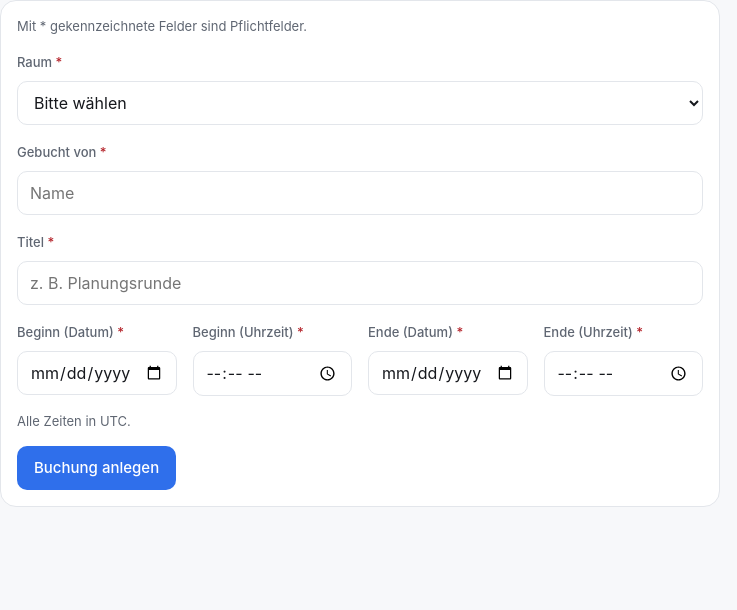
Test: BookingForm › shows the occupied period on a 409 conflict and keeps the entered values
Select "Alpha · 4 Plätze" in the dropdown labelled "Raum *" at (360, 103), box [17,81,703,125]
Type "Anna" into the field labelled "Gebucht von *" at (360, 193), box [17,171,703,215]
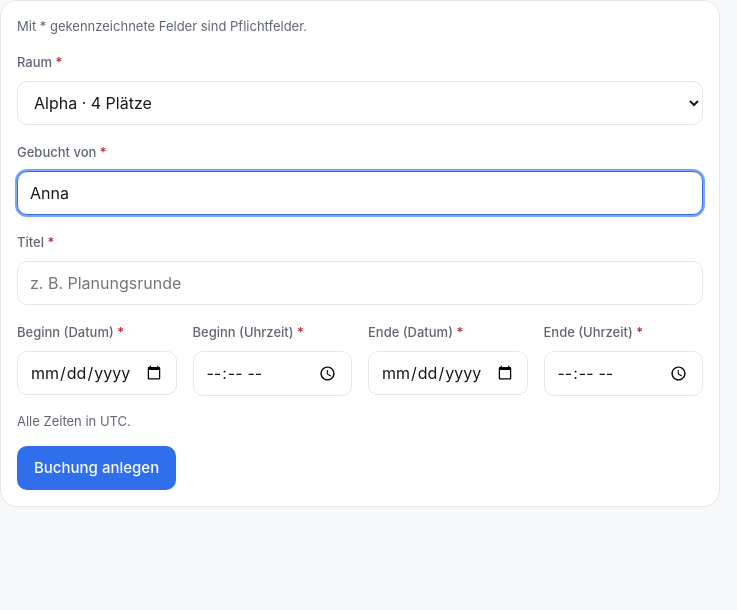
Type "Planung" into the field labelled "Titel *" at (360, 283), box [17,261,703,305]
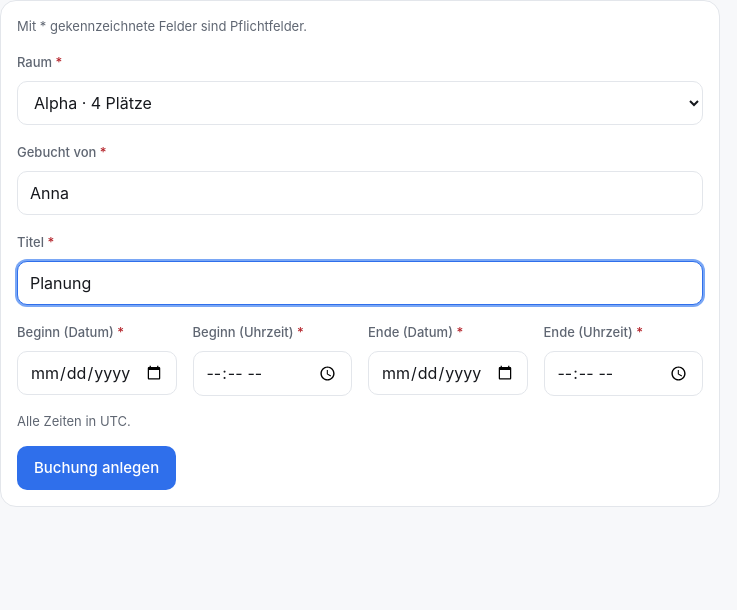
Type "2030-01-02" into the date field labelled "Beginn (Datum) *" at (97, 373), box [17,351,176,395]
Type "09:00" into the time field labelled "Beginn (Uhrzeit) *" at (272, 373), box [192,351,352,396]
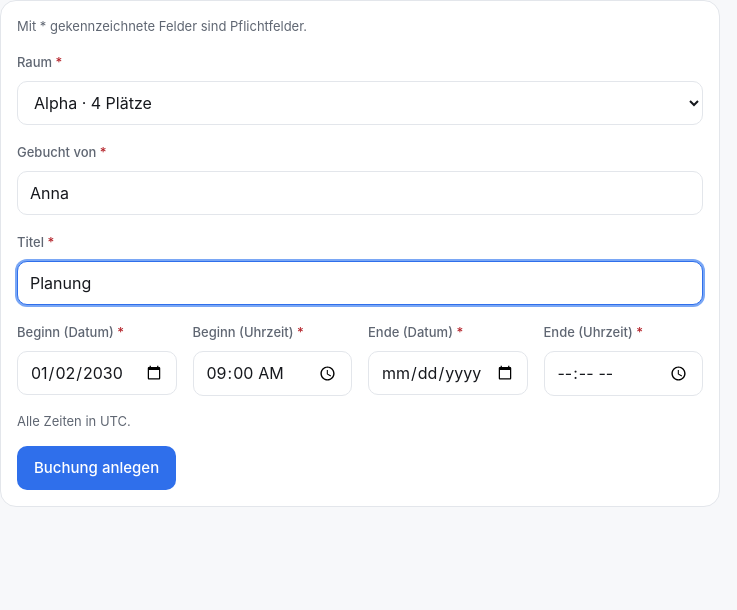
Type "2030-01-02" into the date field labelled "Ende (Datum) *" at (448, 373), box [368,351,528,395]
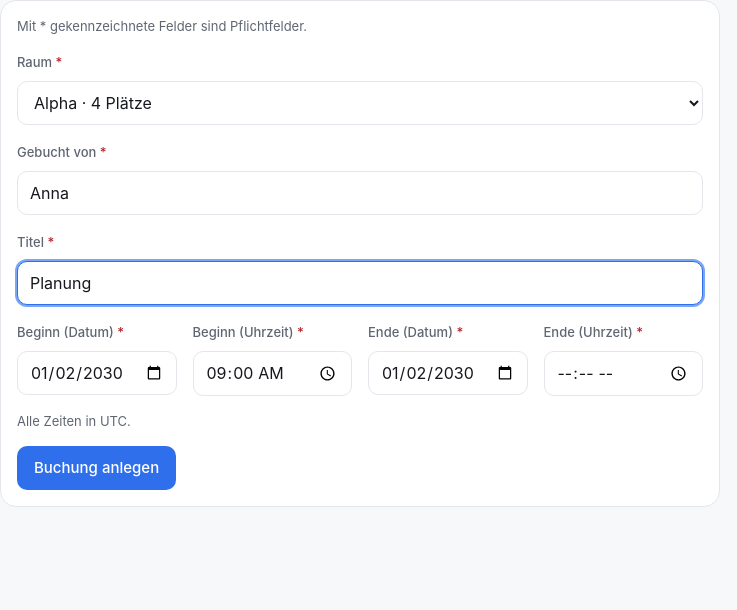
Type "10:00" into the time field labelled "Ende (Uhrzeit) *" at (623, 373), box [544,351,703,396]
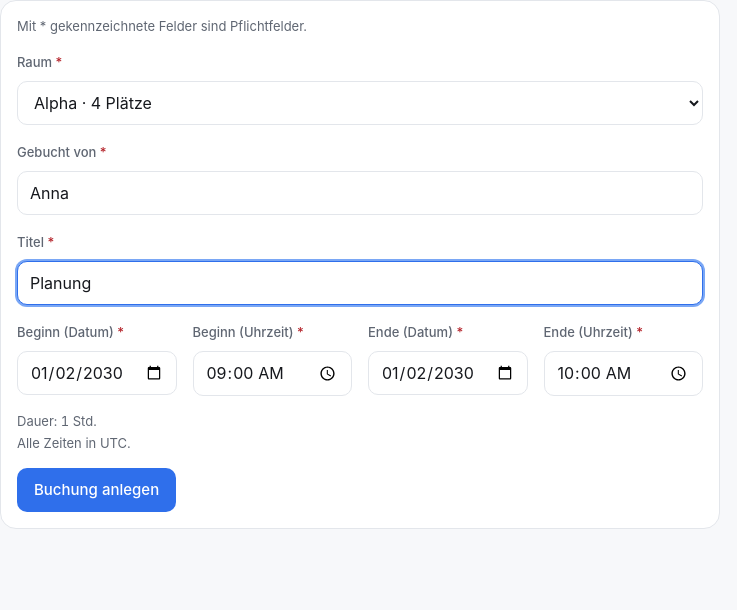
Click the button "Buchung anlegen" at (97, 490), box [17,468,176,512]
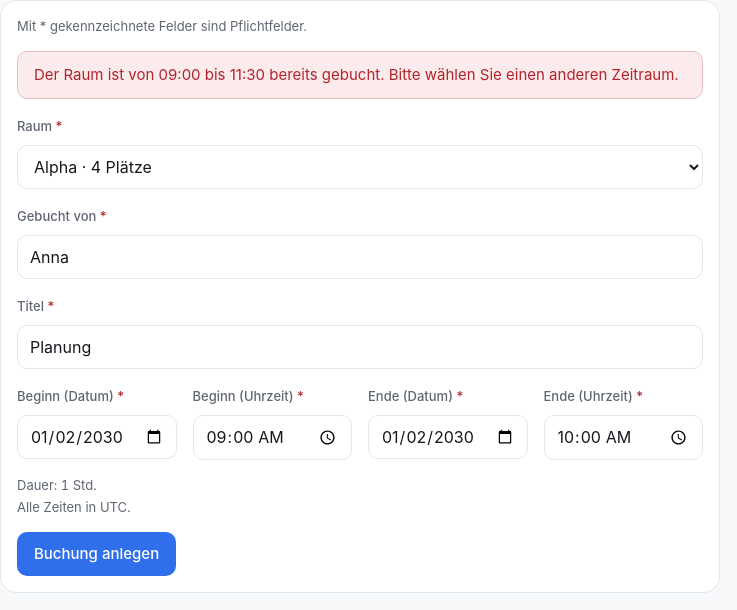
Expected: the message shows "09:00 bis 11:30", [34,65,679,84]
